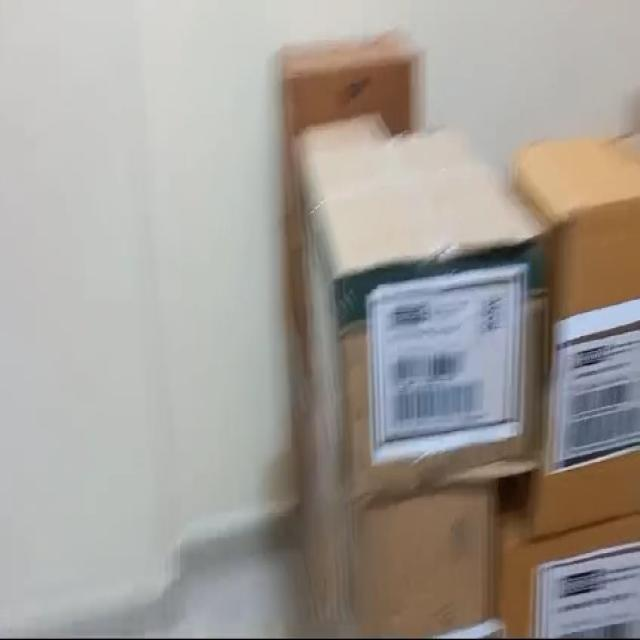BoxFace: (329, 229, 551, 505)
